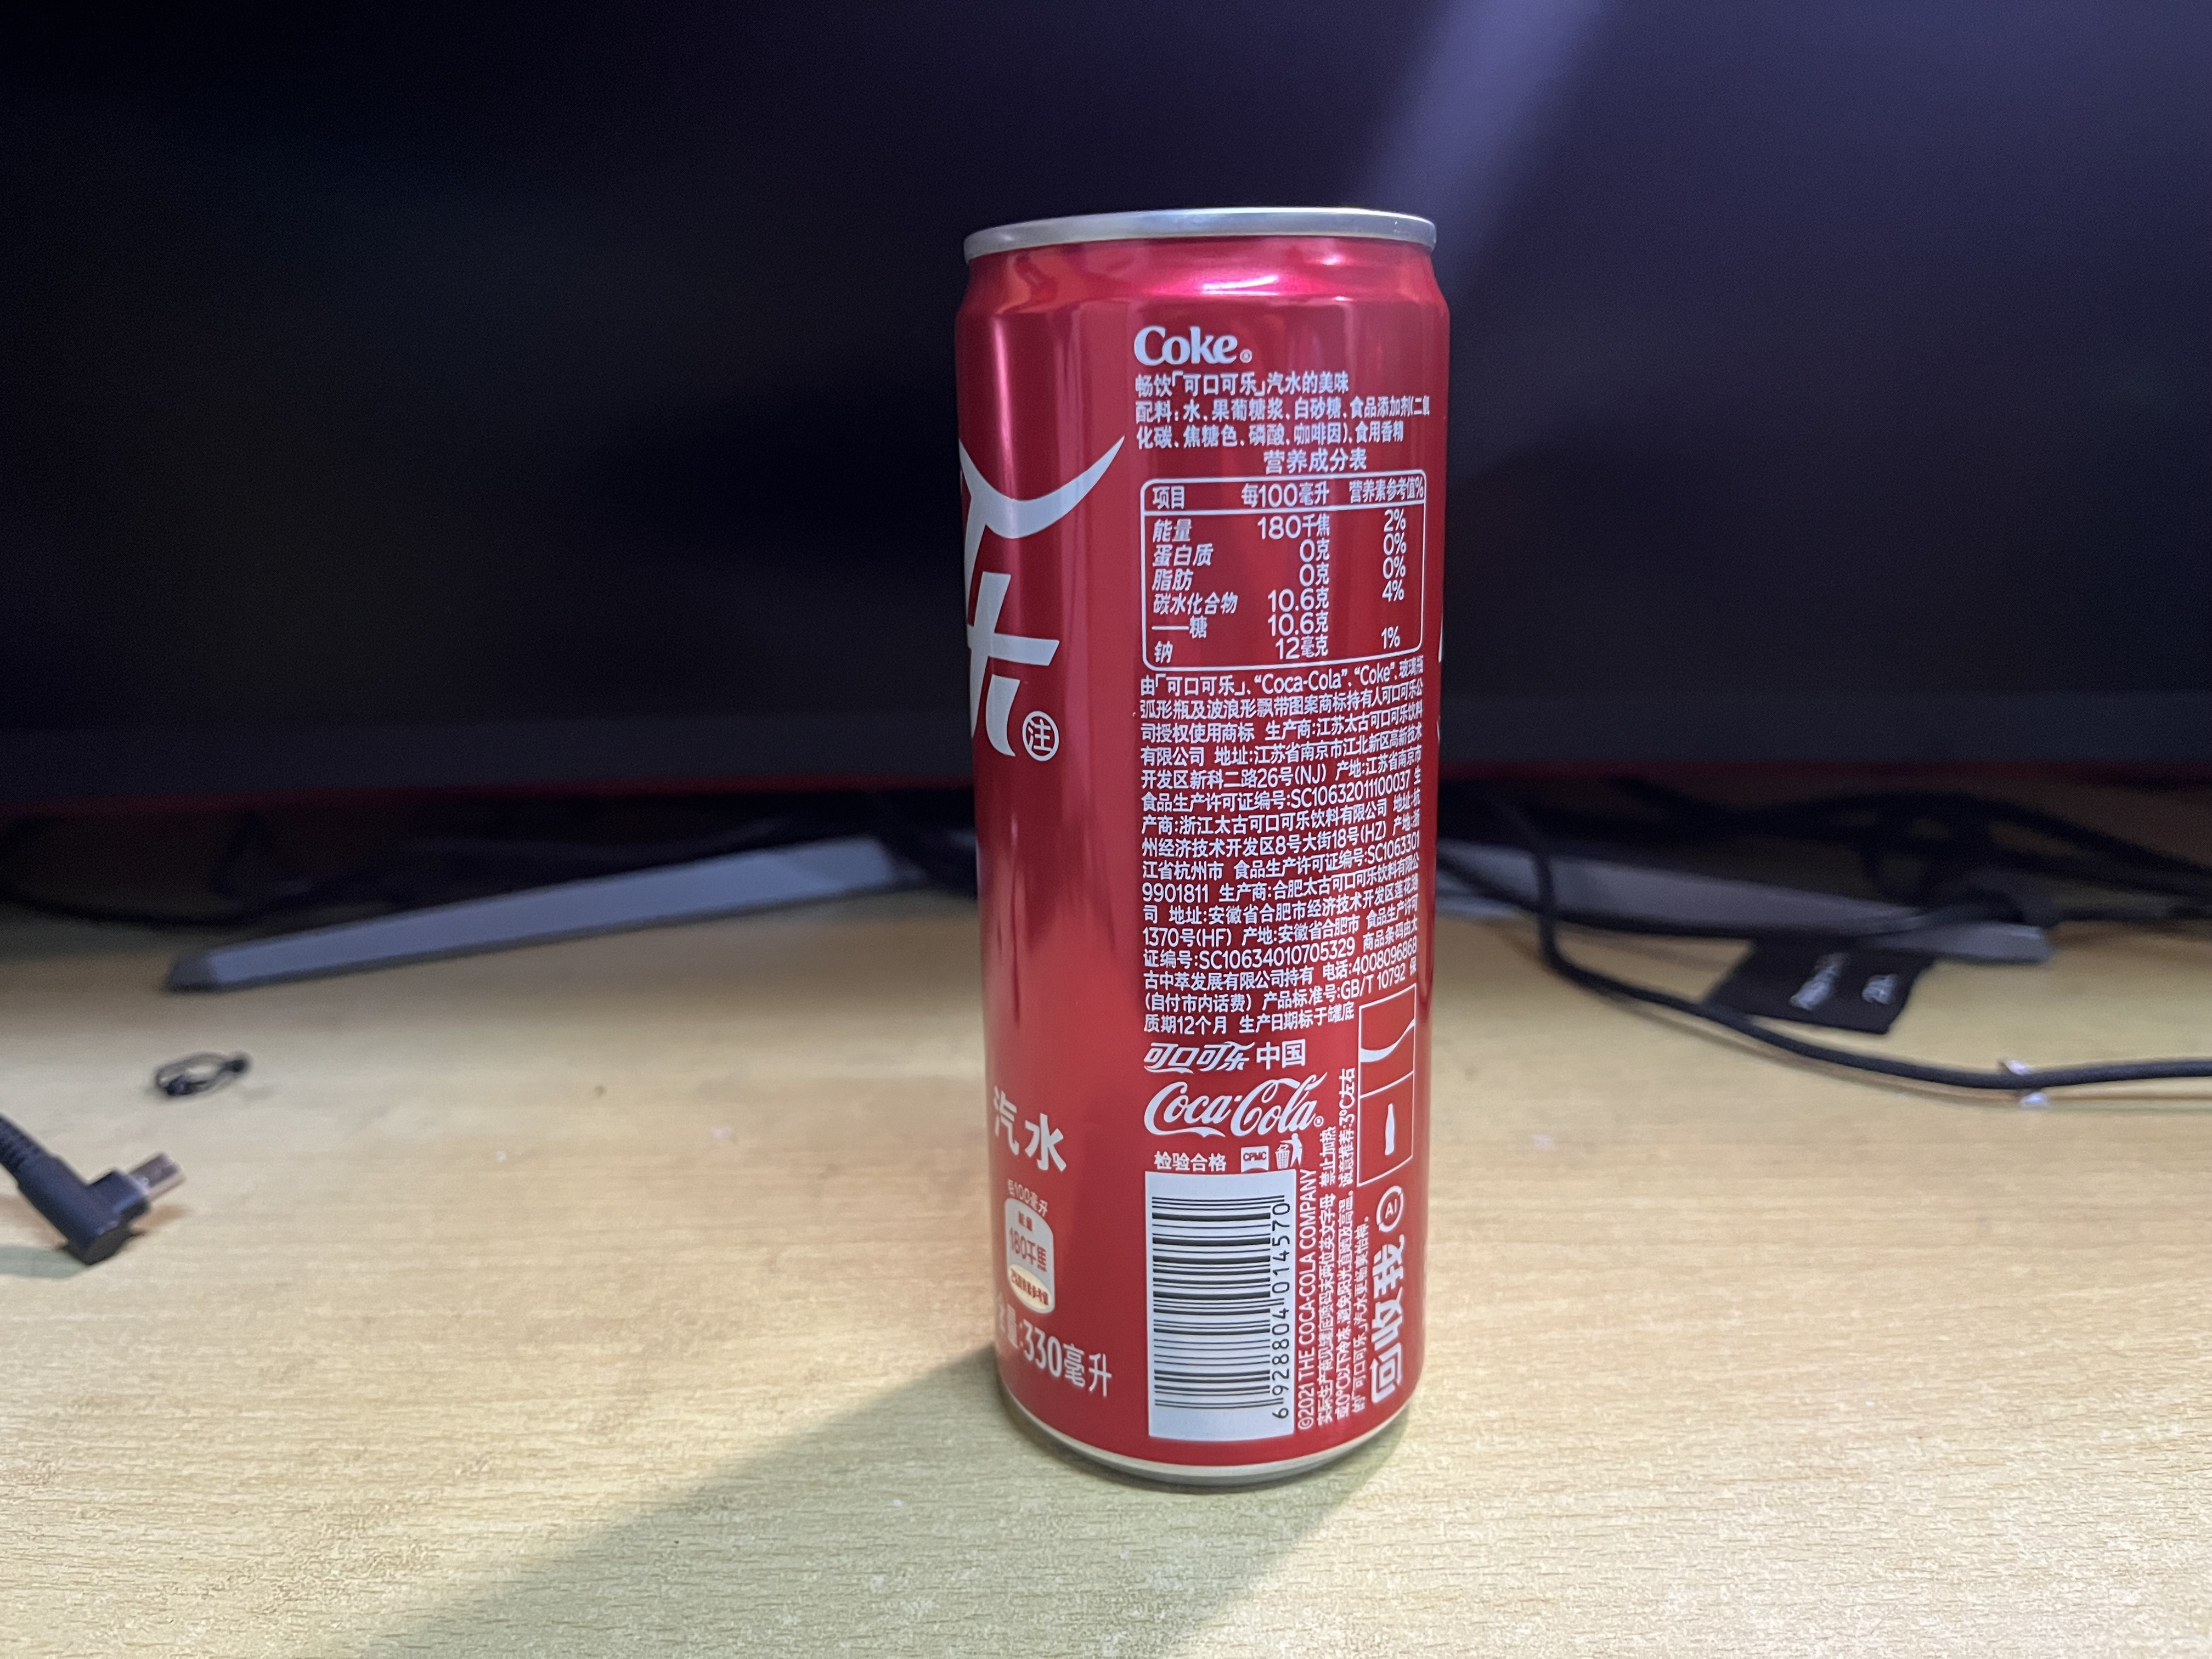CocaCola: (953, 207, 1449, 1481)
